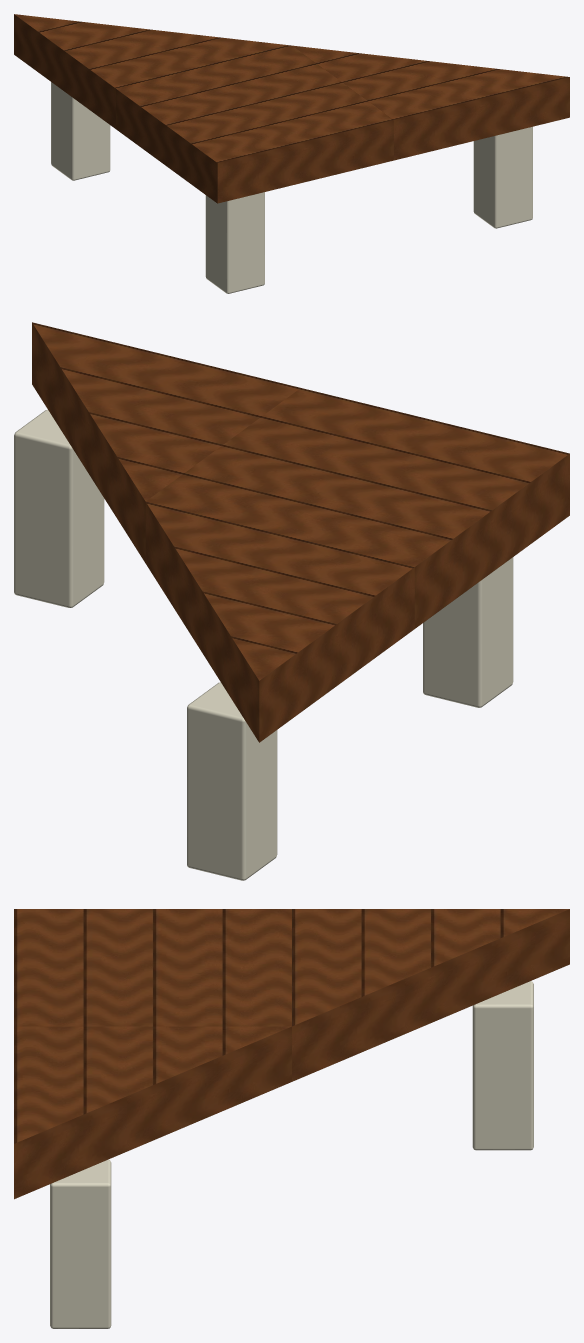
File: prehistoric-survivor-settlement-ceremonial-triangle-pl-f276081b__23183.glb
3 views of the same model, one above another, from view 1: azimuth 30°, elevation 25°; view 2: azimuth 150°, elevation 25°; view 3: azimuth 270°, elevation 25° (orthographic). The views are drawn at different scales.
Parts seen in each view (by area): view 1: ceremonial-triangle-platform; view 2: ceremonial-triangle-platform; view 3: ceremonial-triangle-platform.
Boxes of the visible parts, left/top/right/bottom form: ceremonial-triangle-platform: left=14, top=14, right=569, bottom=293; ceremonial-triangle-platform: left=14, top=322, right=569, bottom=880; ceremonial-triangle-platform: left=14, top=909, right=569, bottom=1328.
Bounding box in the file's own units: 2 × 0.8 × 2.
2 materials, 1 textured.
